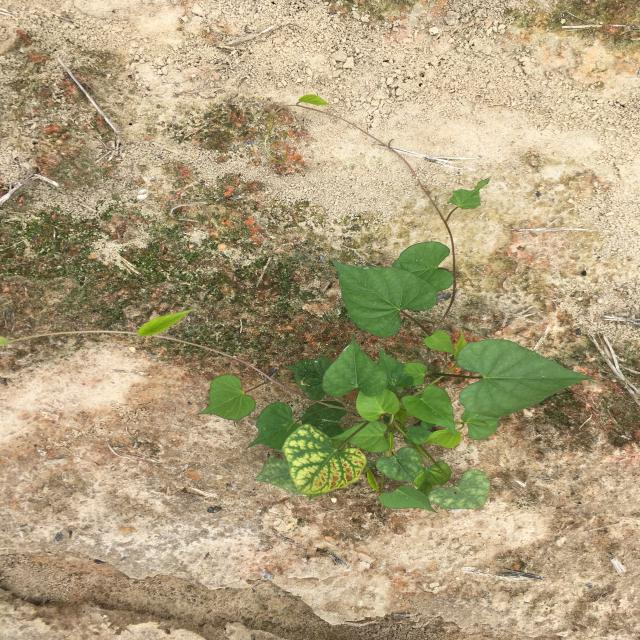MorningGlory: (1, 94, 596, 513)
